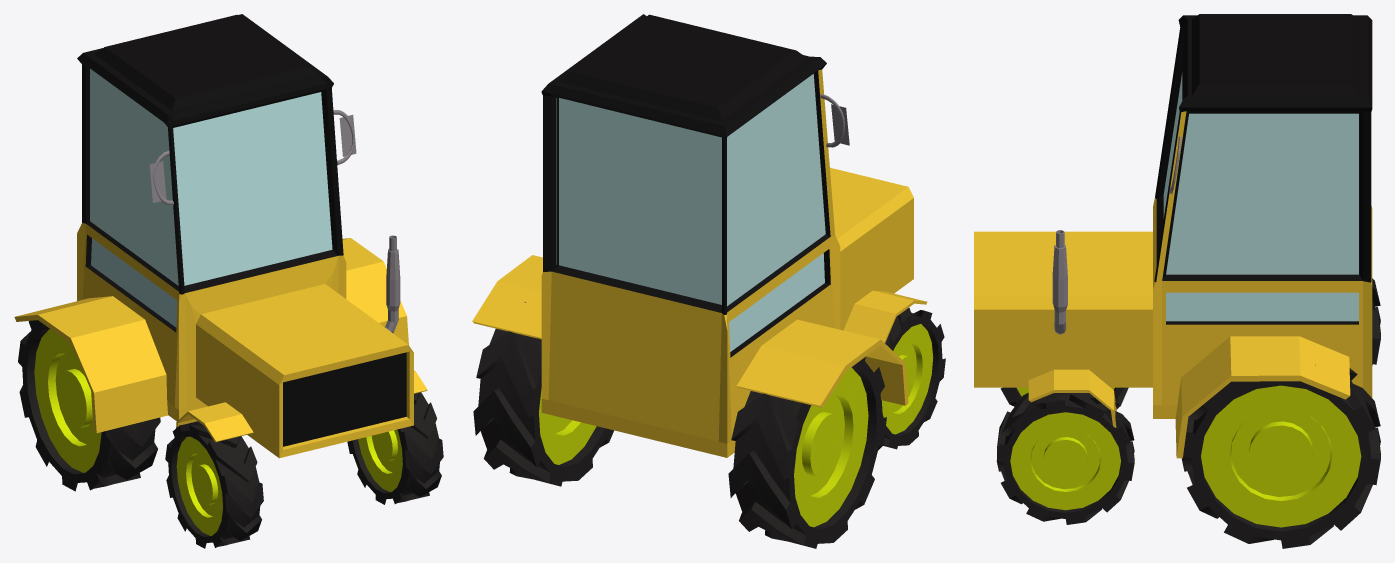
Rendered from Tractor_Done.fbx.
3 renders of one model, left to right at view 1: azimuth 30°, elevation 25°; view 2: azimuth 150°, elevation 25°; view 3: azimuth 270°, elevation 25°, orthographic. The views are drawn at different scales.
Parts seen in each view (by area): view 1: Tractor1; view 2: Tractor1; view 3: Tractor1.
Boxes of the visible parts, box(x1,y1,x2,y2) form: Tractor1: box(14, 14, 443, 548); Tractor1: box(472, 14, 945, 548); Tractor1: box(974, 14, 1380, 548).
Size of the model in its own units: 1292 by 1556 by 1345.
